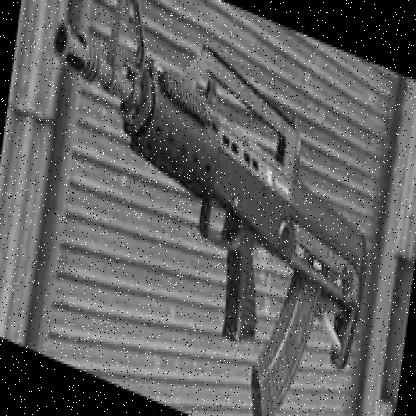rifle: (13, 0, 392, 416)
